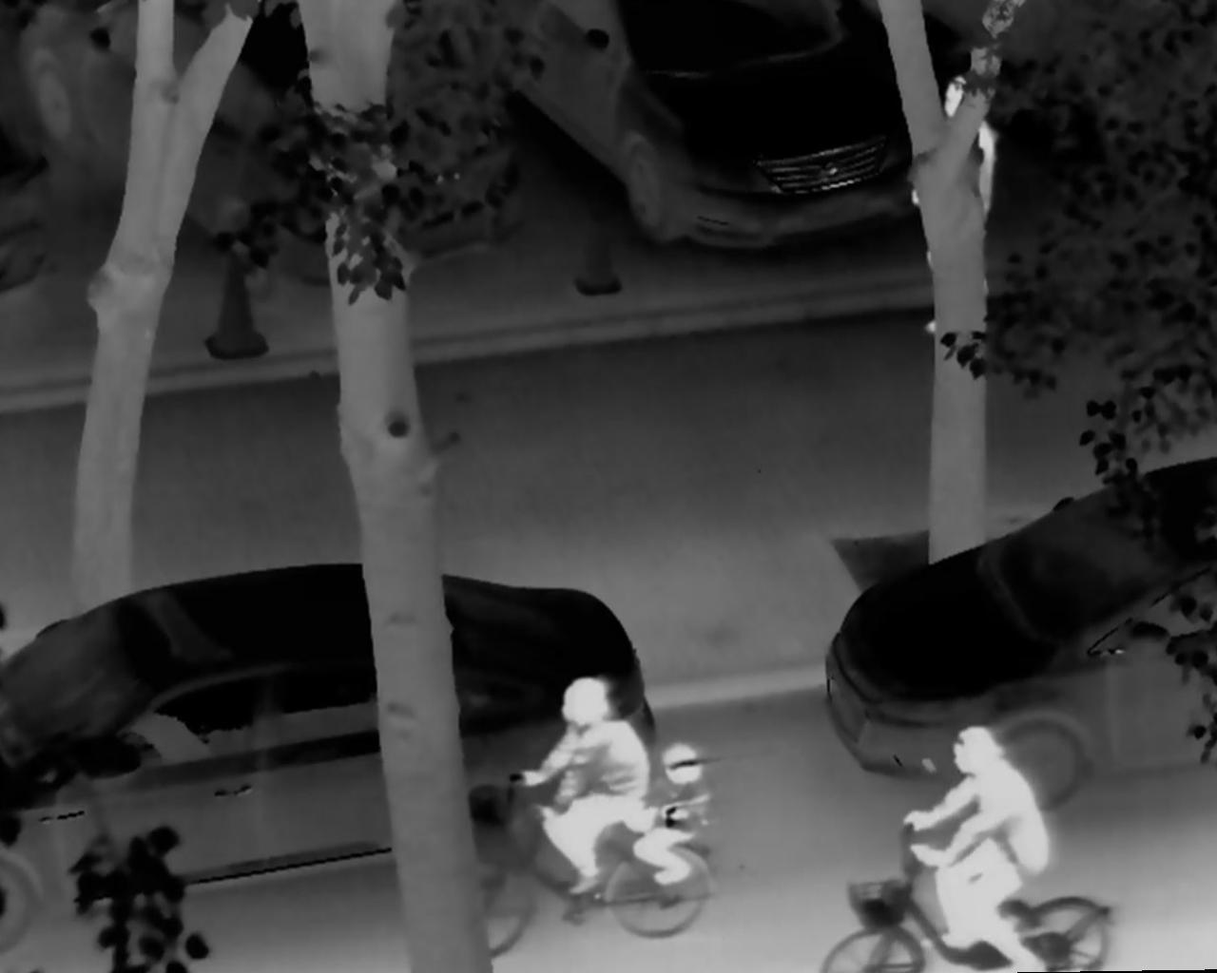person: (889, 716, 1057, 973), (517, 675, 651, 907), (910, 75, 999, 340), (637, 740, 718, 900)
